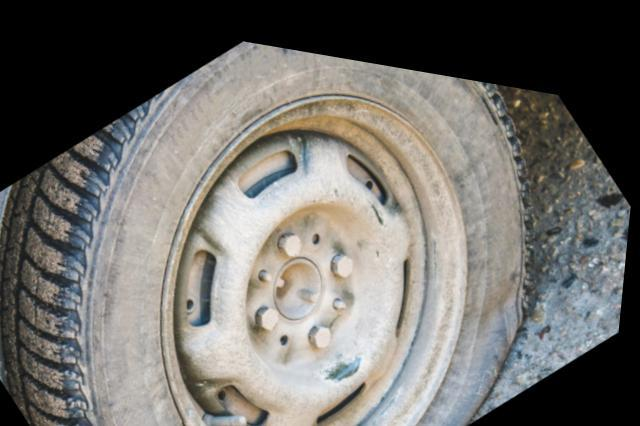tire flat: (0, 33, 538, 426)
